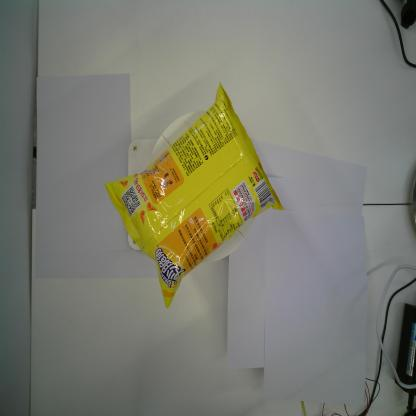Puffed Food: (103, 80, 290, 312)
